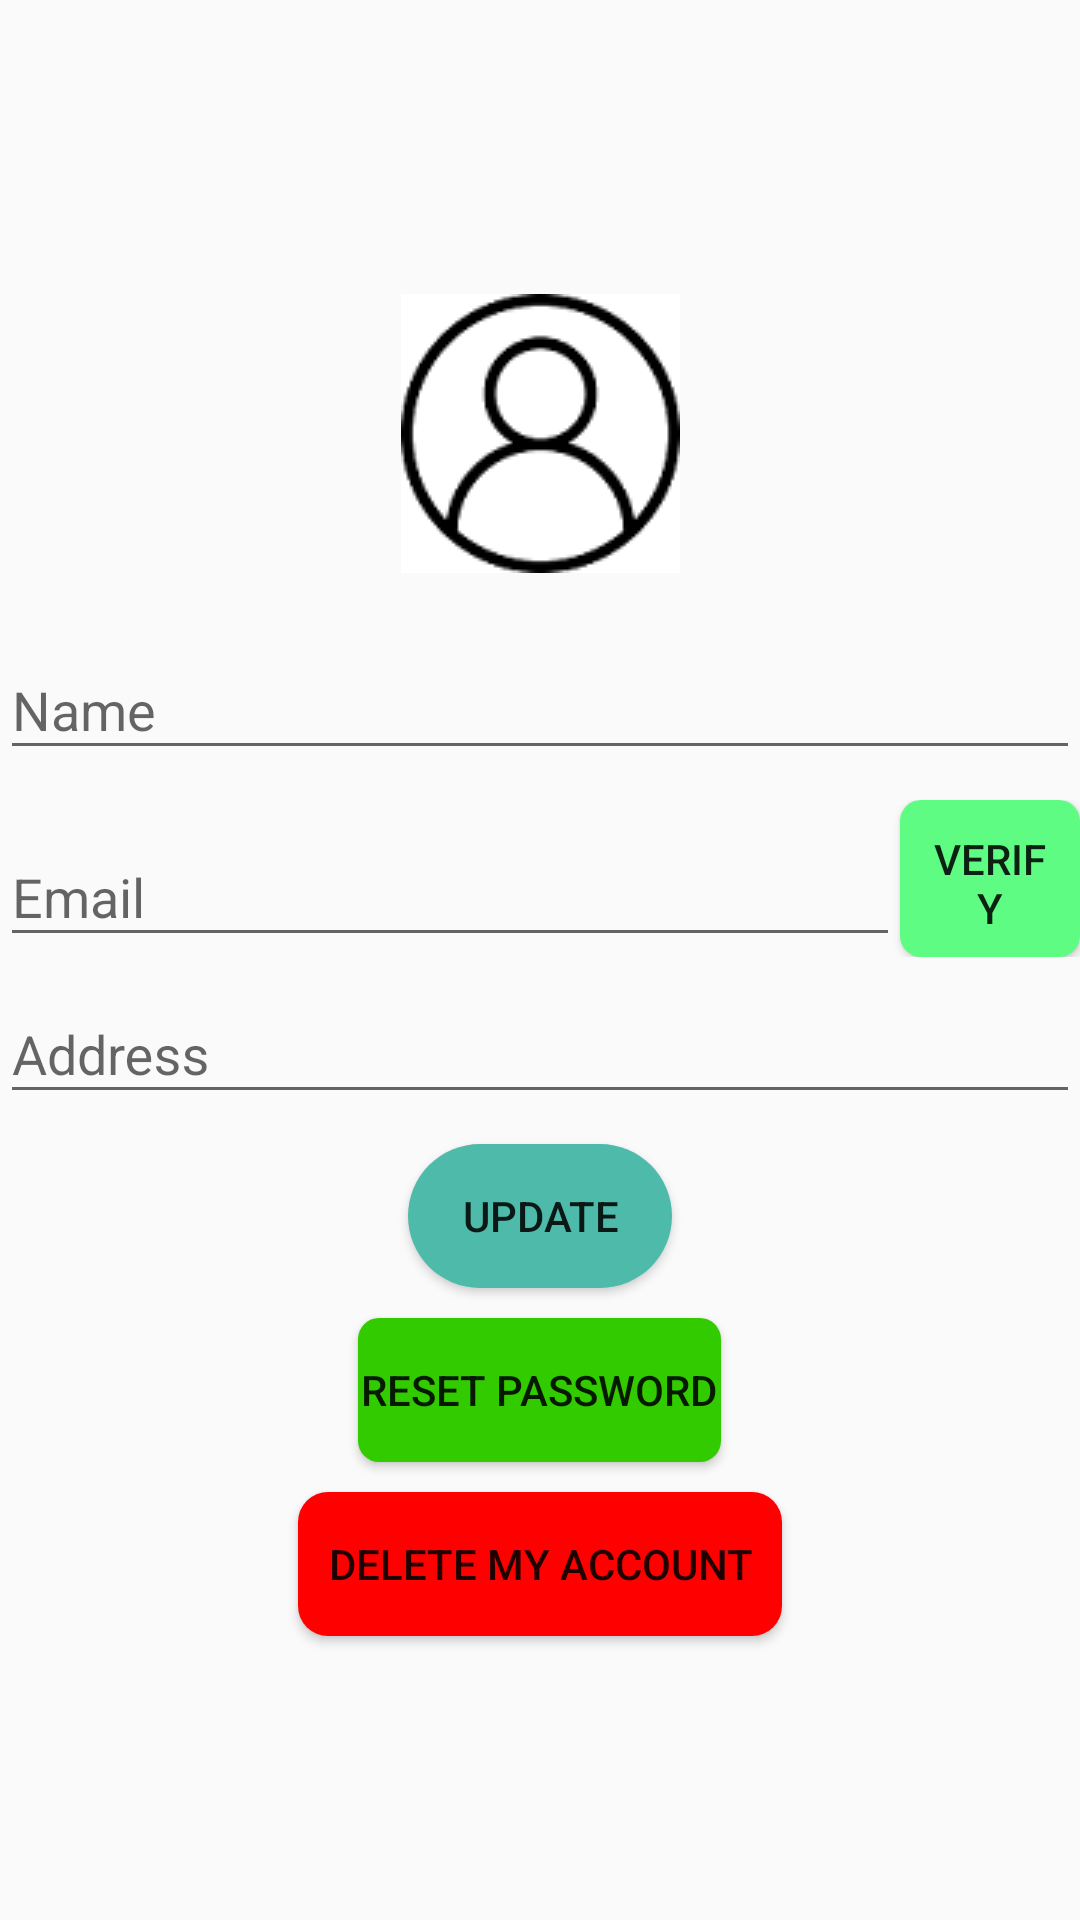

Locate icon controls on the screen. Image size 1080px x 1920px, boxes as (x1, y1, x2, y2).
user: (401, 294, 680, 573)
